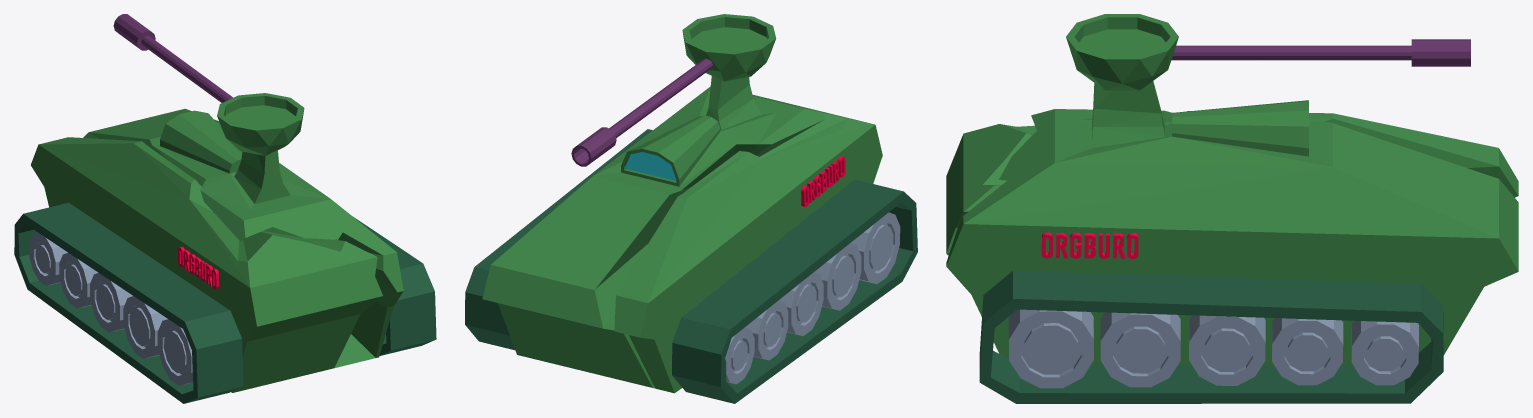
Rendered from tank_01_cracked.obj.
3 views of the same model, side by side, from view 1: azimuth 30°, elevation 25°; view 2: azimuth 150°, elevation 25°; view 3: azimuth 270°, elevation 25° (orthographic). The views are drawn at different scales.
Parts seen in each view (by area): view 1: tank_01_cracked_Cube.006; view 2: tank_01_cracked_Cube.006; view 3: tank_01_cracked_Cube.006.
Boxes of the visible parts, left/top/right/bottom form: tank_01_cracked_Cube.006: left=14, top=14, right=436, bottom=403; tank_01_cracked_Cube.006: left=465, top=14, right=917, bottom=403; tank_01_cracked_Cube.006: left=946, top=14, right=1518, bottom=403.
Bounding box in the file's own units: 3.25 × 3.02 × 5.34.
